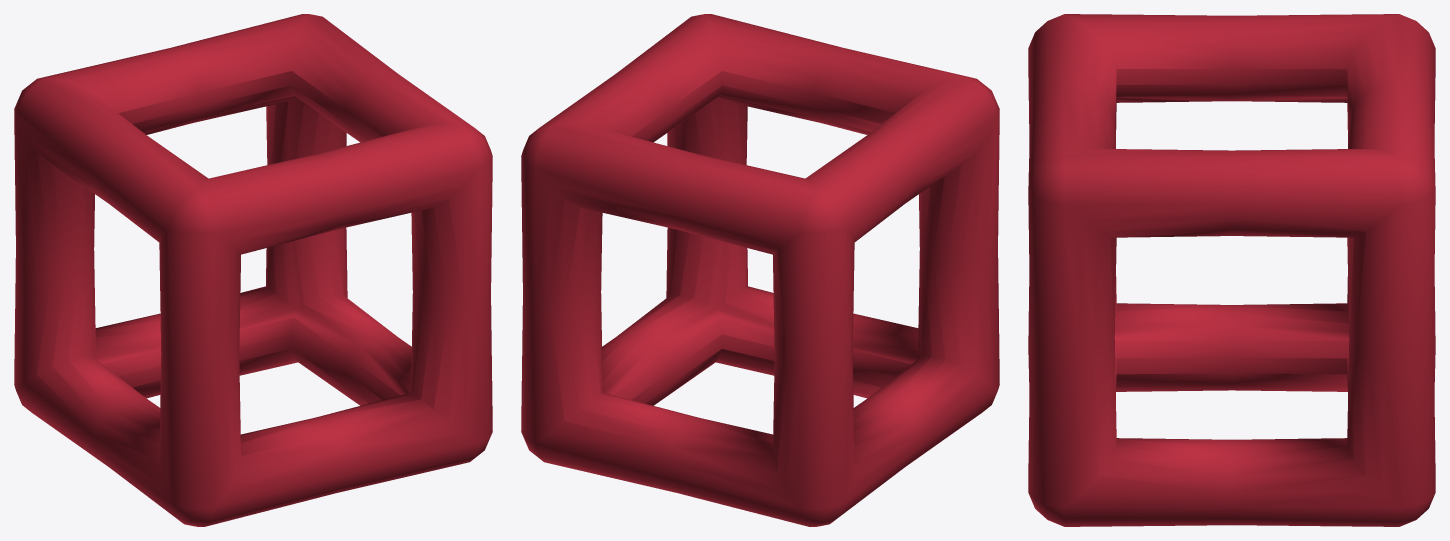
File: Block.fbx
The picture shows the model from 3 angles, left to right: view 1: azimuth 30°, elevation 25°; view 2: azimuth 150°, elevation 25°; view 3: azimuth 270°, elevation 25°; orthographic projection. The views are drawn at different scales.
Parts seen in each view (by area): view 1: Cylinder; view 2: Cylinder; view 3: Cylinder.
Boxes of the visible parts, x1,y1,x2,y2 form: Cylinder: (14, 14, 492, 526); Cylinder: (521, 14, 999, 526); Cylinder: (1028, 14, 1435, 526).
Size of the model in its own units: 20.27 by 20.27 by 20.26.
